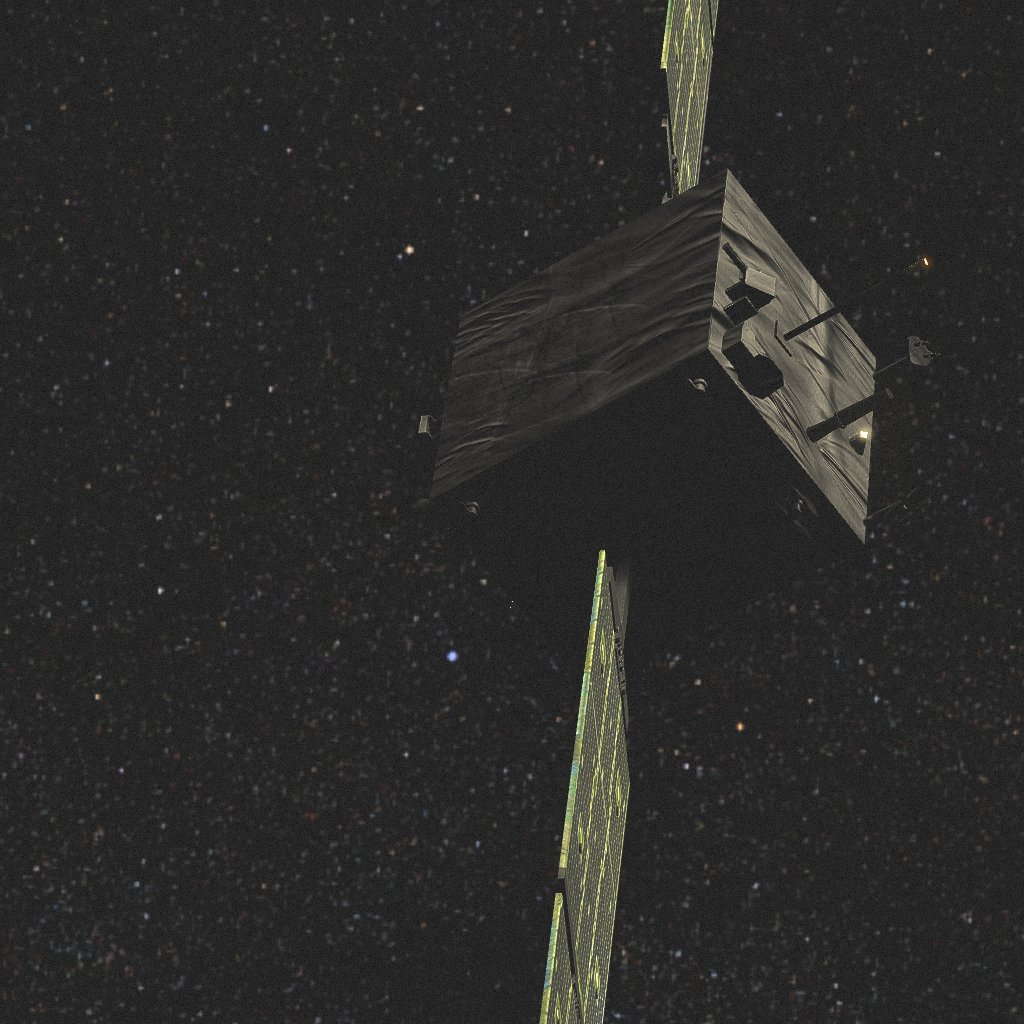smart_1: (422, 13, 875, 1015)
